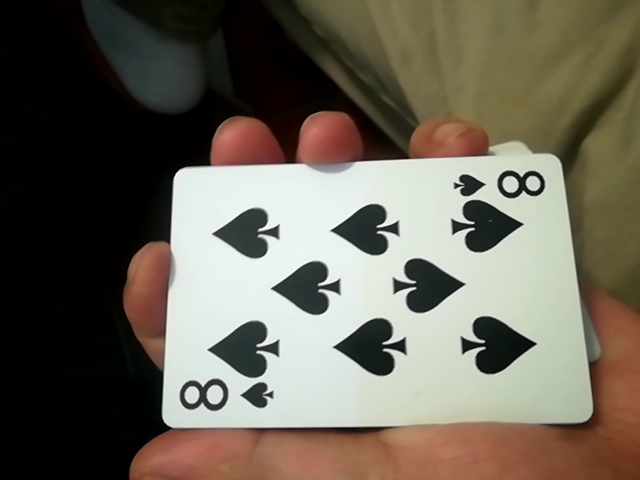ht 8: (138, 138, 573, 447)
